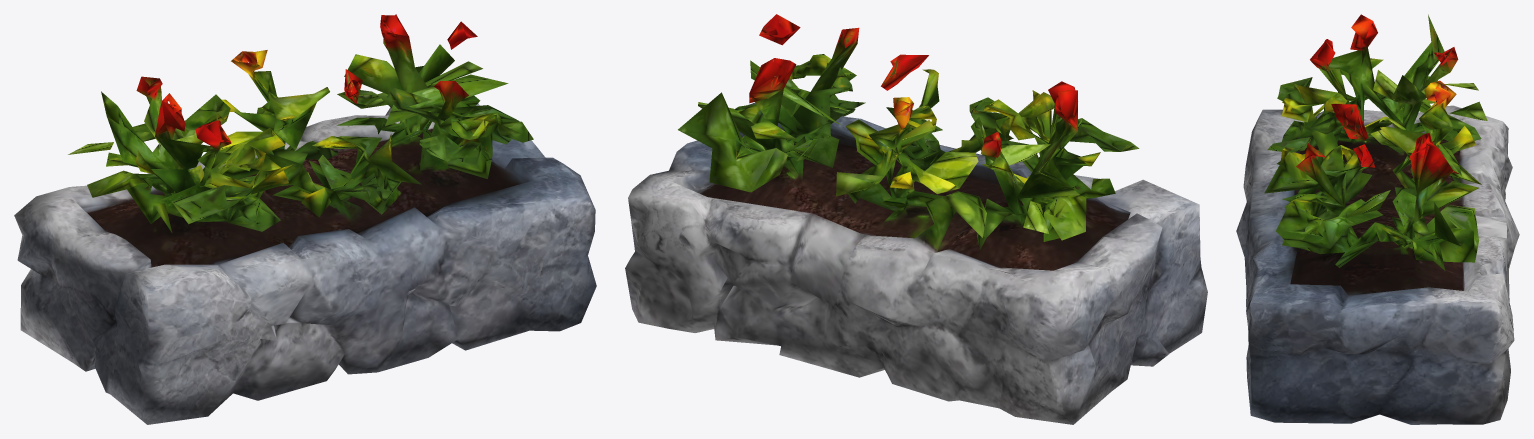
The model's file is flowerbed_tripo.glb.
The picture shows the model from 3 angles, left to right: view 1: azimuth 30°, elevation 25°; view 2: azimuth 150°, elevation 25°; view 3: azimuth 270°, elevation 25°; orthographic projection. The views are drawn at different scales.
Parts seen in each view (by area): view 1: tripo_node_f7a24429-97de-447a-91fd-bc6803d31fc1; view 2: tripo_node_f7a24429-97de-447a-91fd-bc6803d31fc1; view 3: tripo_node_f7a24429-97de-447a-91fd-bc6803d31fc1.
Boxes of the visible parts, box(x1,y1,x2,y2) form: tripo_node_f7a24429-97de-447a-91fd-bc6803d31fc1: box(14, 14, 596, 424); tripo_node_f7a24429-97de-447a-91fd-bc6803d31fc1: box(625, 14, 1207, 424); tripo_node_f7a24429-97de-447a-91fd-bc6803d31fc1: box(1236, 14, 1519, 424).
Bounding box in the file's own units: 1 × 0.564 × 0.5804.
Materials: 1 (1 with a texture image).
